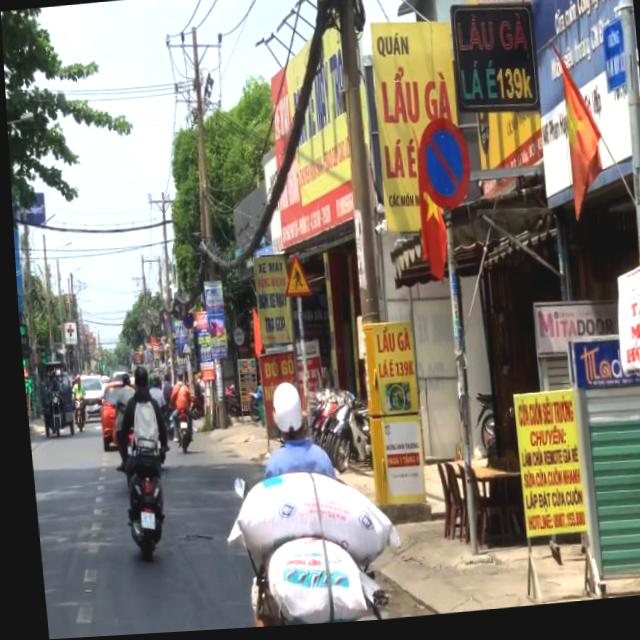Cam do xe: (411, 118, 473, 218)
Nguoi di bo cat ngang: (277, 257, 310, 303)
